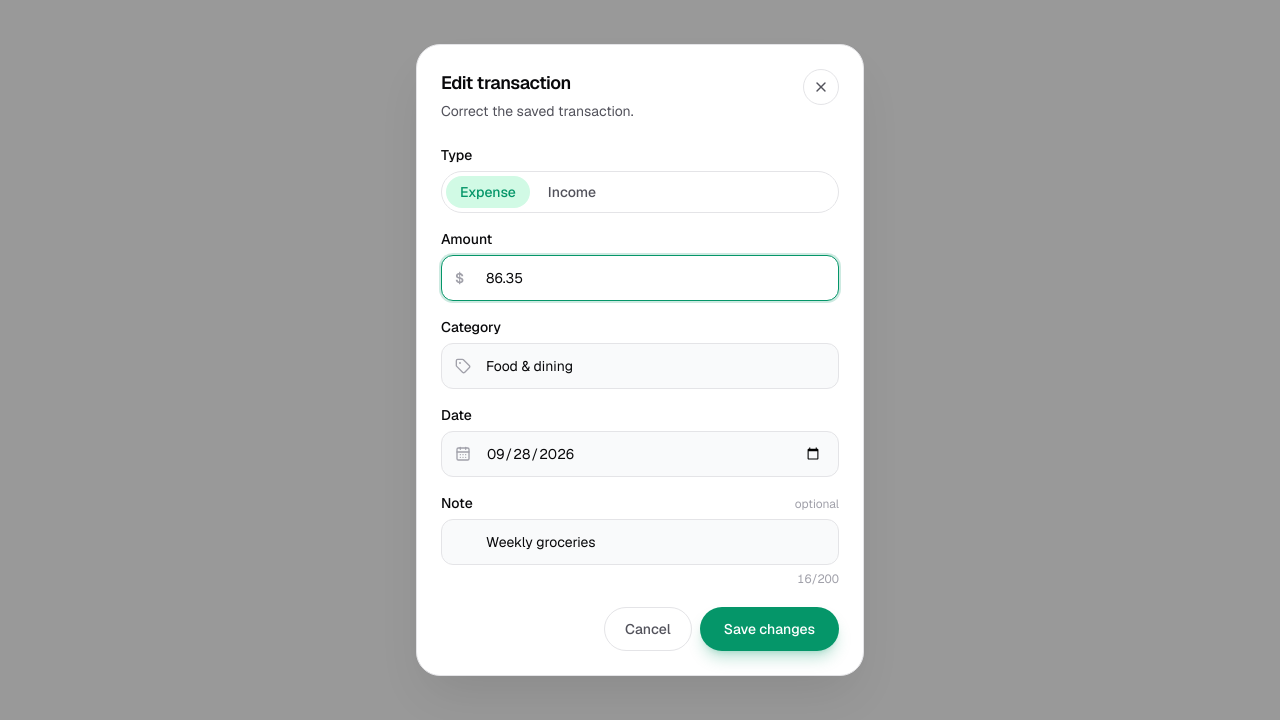
Scenario: TransactionFormModal › editing a transaction › keeps the form open and explains the failure when the update fails
The image size is (1280, 720).
Step 1. Replace the text in the field labelled "Amount" with "95" → (640, 278), box [441,255,839,301]
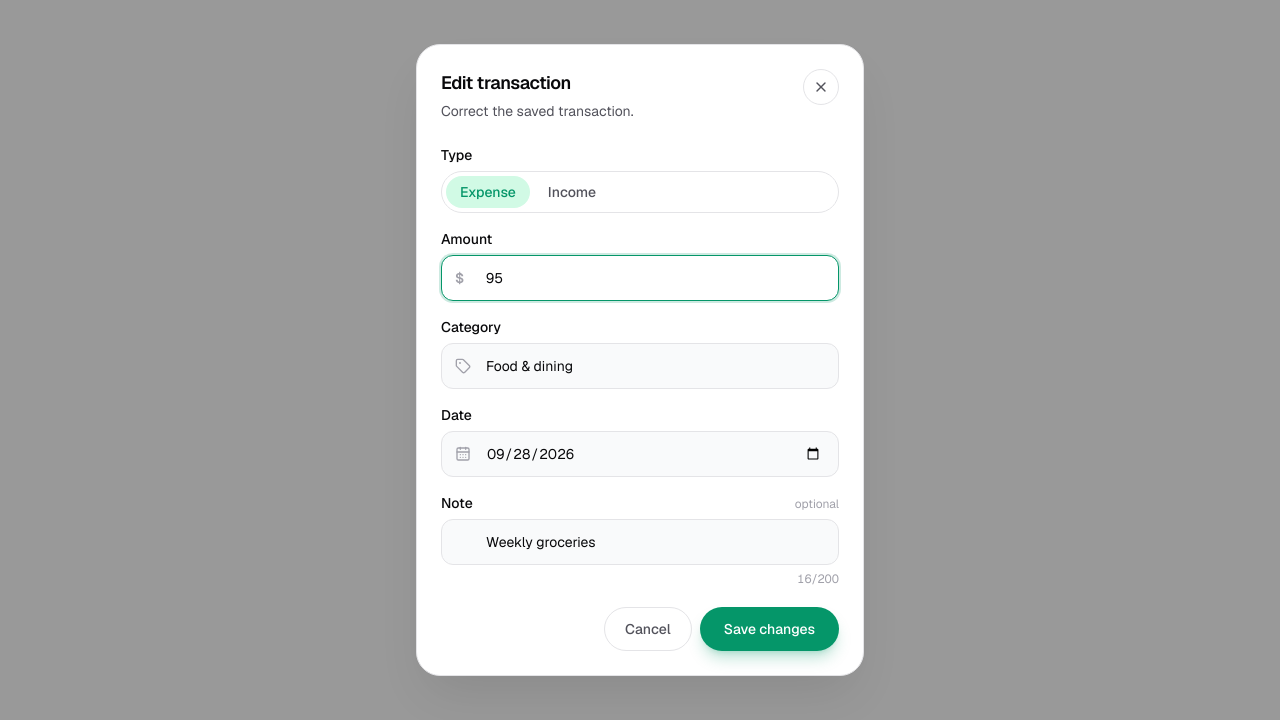
Step 2. Click the button "Save changes" → (769, 629), box [700,607,839,651]
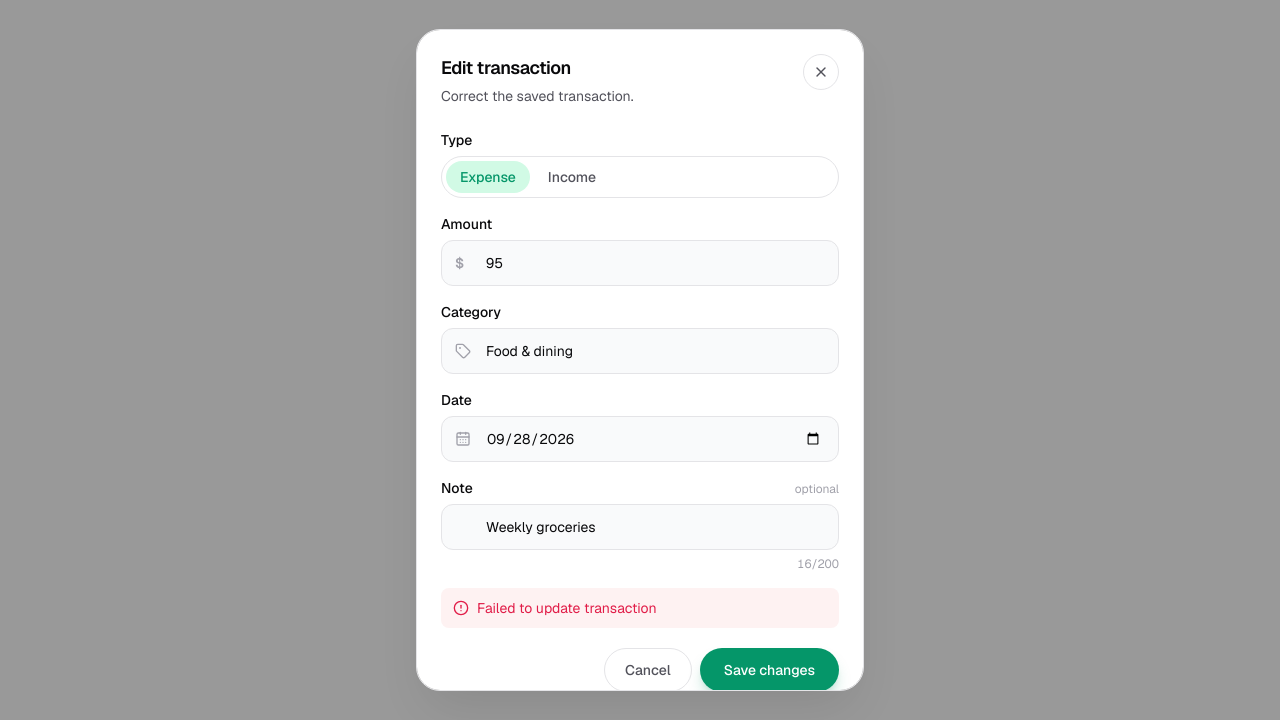
Expected: the dialog "Edit transaction" is shown, [416,29,864,691]
Now the text "Failed to update transaction" is shown, box [441,588,839,628]
